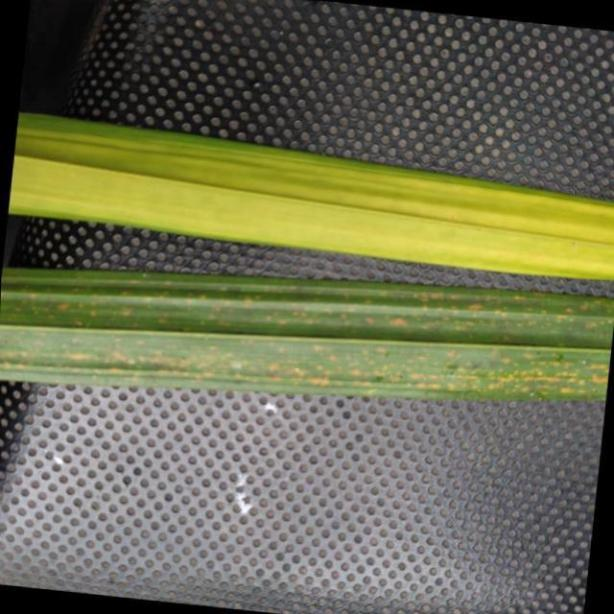nitrogen: (7, 92, 614, 281), (6, 267, 614, 400)
